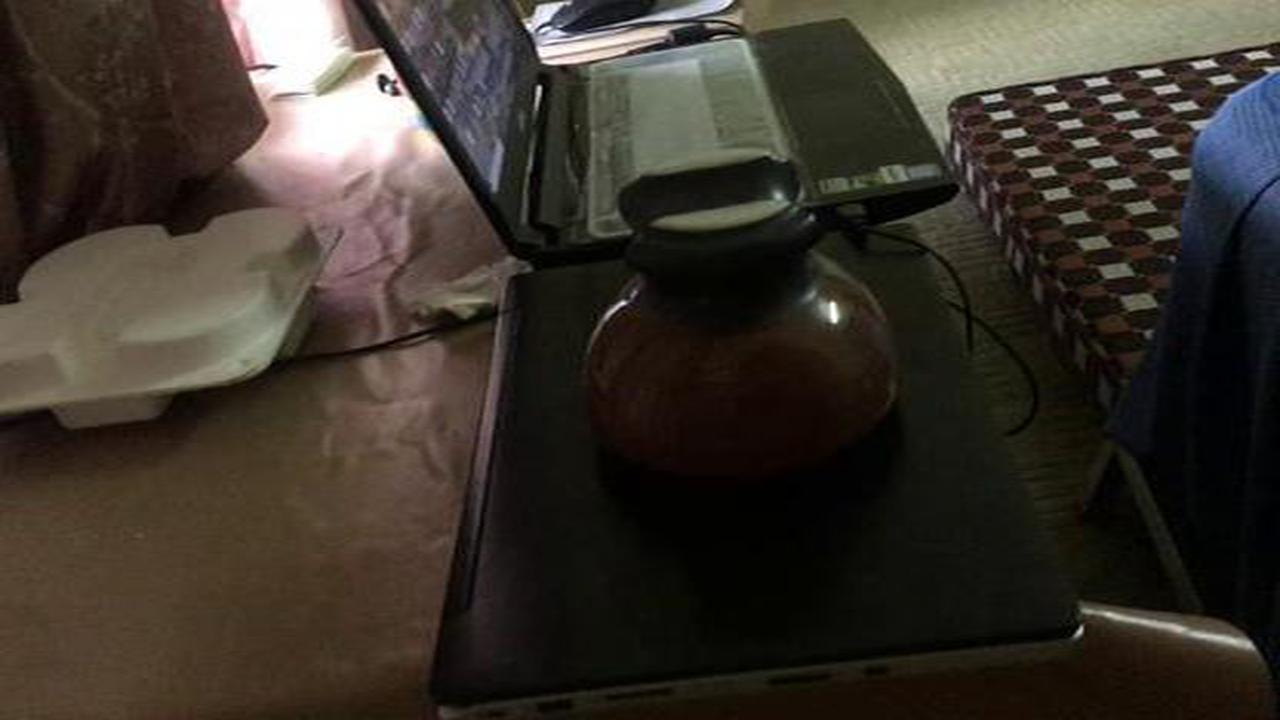insulator_pin: (564, 144, 933, 509)
